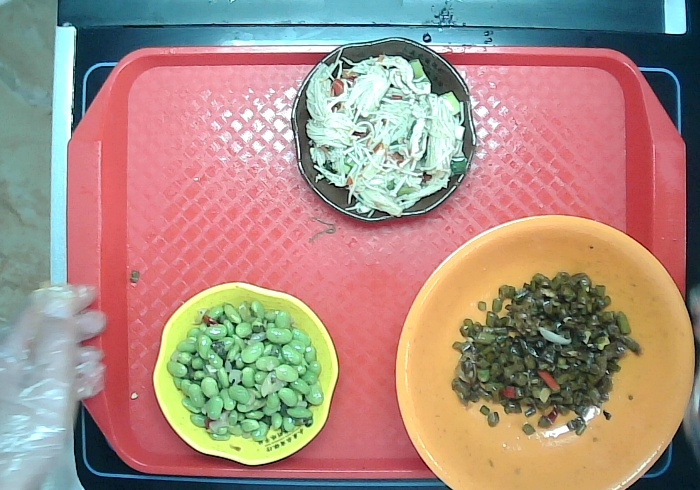YKMZ-Huang_Se_Ao_Bian_Wan: (147, 279, 339, 466)
YKMZ-Ju_Se_Tang_Wan: (394, 212, 700, 490)
YKMZ-Ka_Fei_Ao_Bian_Wan: (292, 36, 479, 227)
